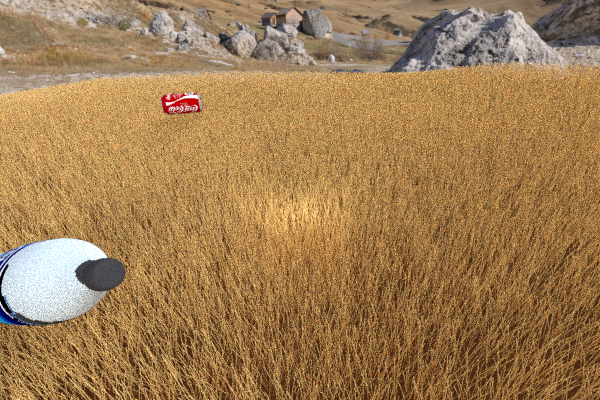bottle: (0, 236, 122, 323)
can: (324, 136, 396, 184), (193, 83, 231, 107)
